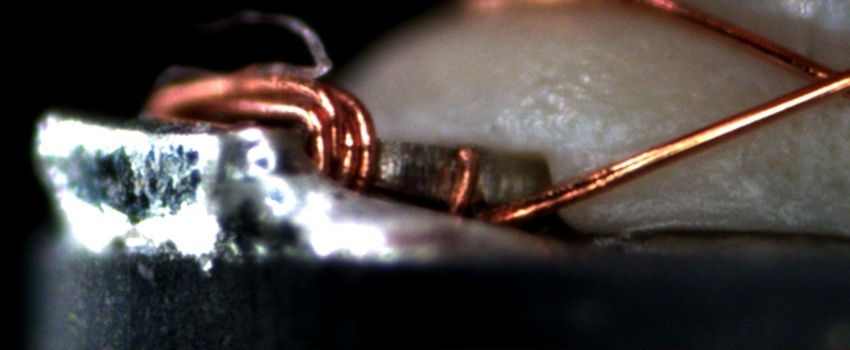CL: (779, 48, 848, 106)
DL: (580, 134, 690, 173)
TE: (134, 61, 488, 219)
